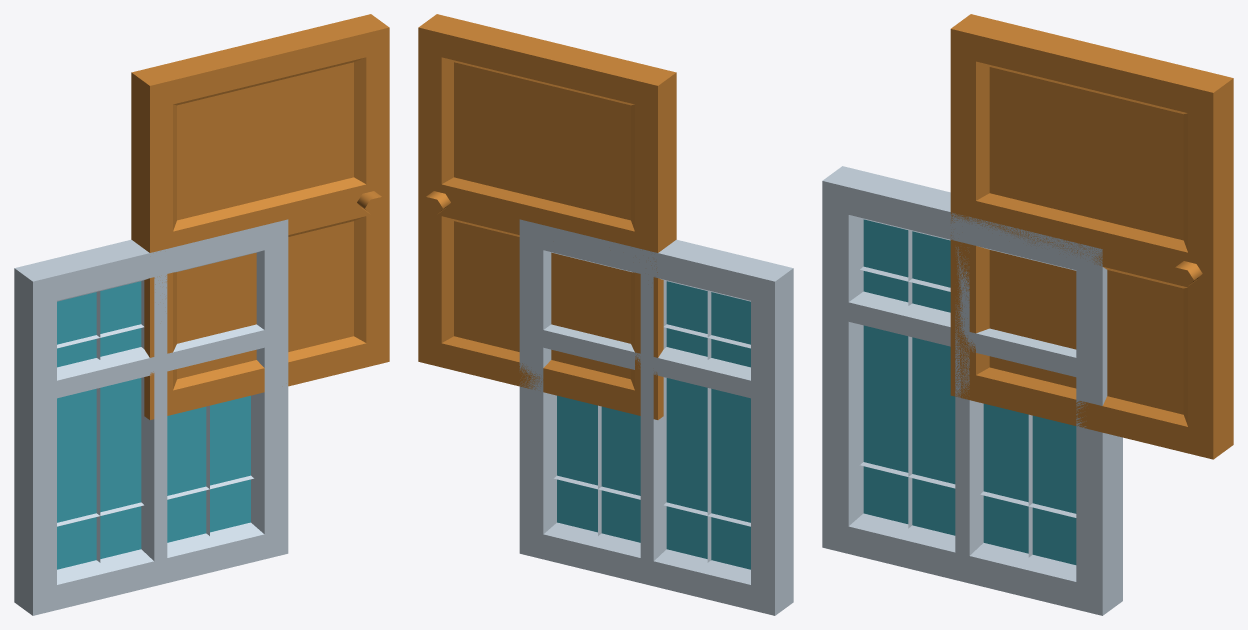
Rendered from city_windows.fbx.
The picture shows the model from 3 angles, left to right: view 1: azimuth 30°, elevation 25°; view 2: azimuth 150°, elevation 25°; view 3: azimuth 330°, elevation 25°; orthographic projection. The views are drawn at different scales.
Visible parts, largest first — view 1: door, window.5, window.4, window.1, window.3; view 2: door, window.5, window.4, window.1, window.3; view 3: door, window.5, window.4, window.1, window.3.
Part boxes in pixels (left/top/right/bottom): door: left=131, top=14, right=389, bottom=419; window.5: left=14, top=222, right=288, bottom=615; window.4: left=14, top=219, right=288, bottom=615; window.1: left=16, top=235, right=287, bottom=595; window.3: left=15, top=220, right=285, bottom=397; door: left=418, top=14, right=676, bottom=419; window.5: left=519, top=241, right=793, bottom=612; window.4: left=519, top=219, right=793, bottom=615; window.1: left=520, top=240, right=776, bottom=601; window.3: left=521, top=220, right=750, bottom=397; door: left=950, top=14, right=1233, bottom=459; window.5: left=822, top=166, right=1122, bottom=615; window.4: left=822, top=166, right=1122, bottom=614; window.1: left=822, top=169, right=1101, bottom=615; window.3: left=823, top=169, right=1102, bottom=357.
Bounding box in the file's own units: 223 × 300 × 37.41.
